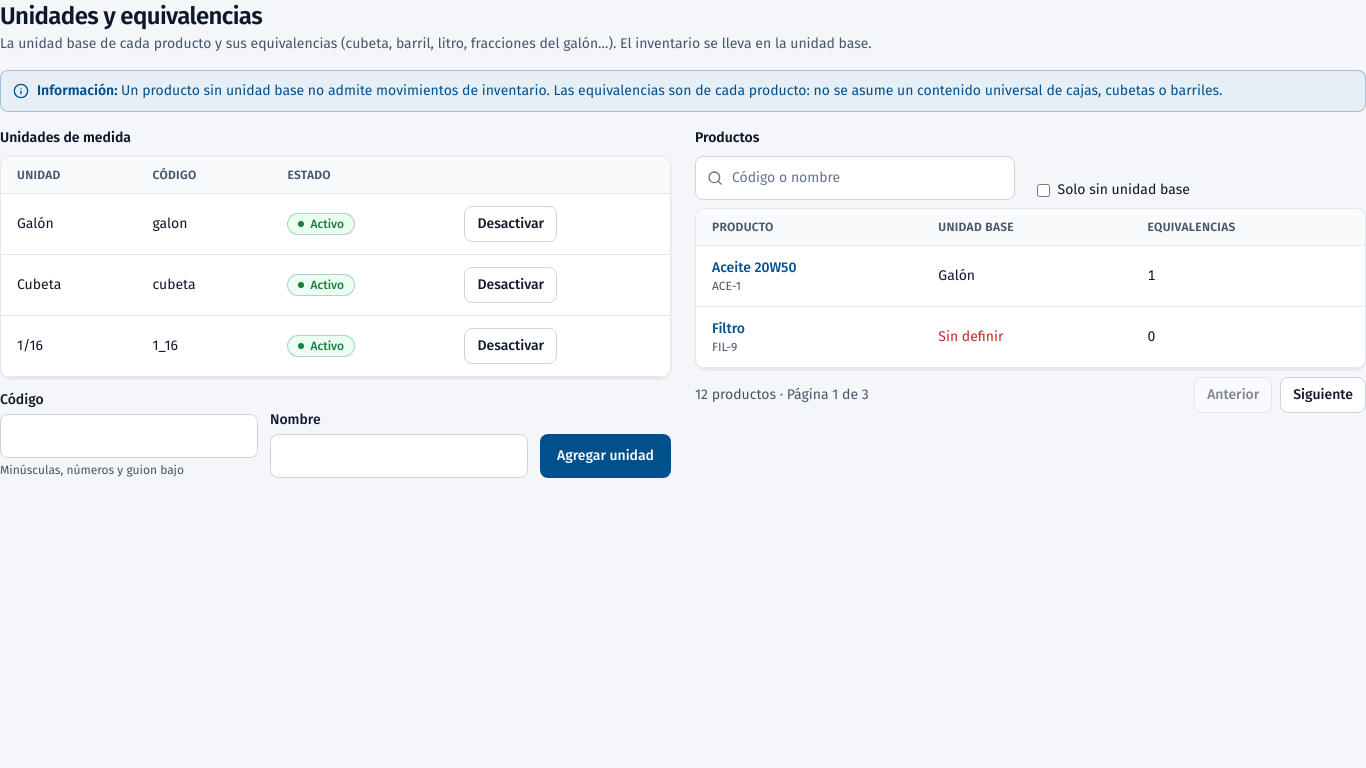
Scenario: unidades y equivalencias › edita la unidad base y las equivalencias de un producto
Click the button "Aceite 20W50": [754, 268] box [712,258,796,278]
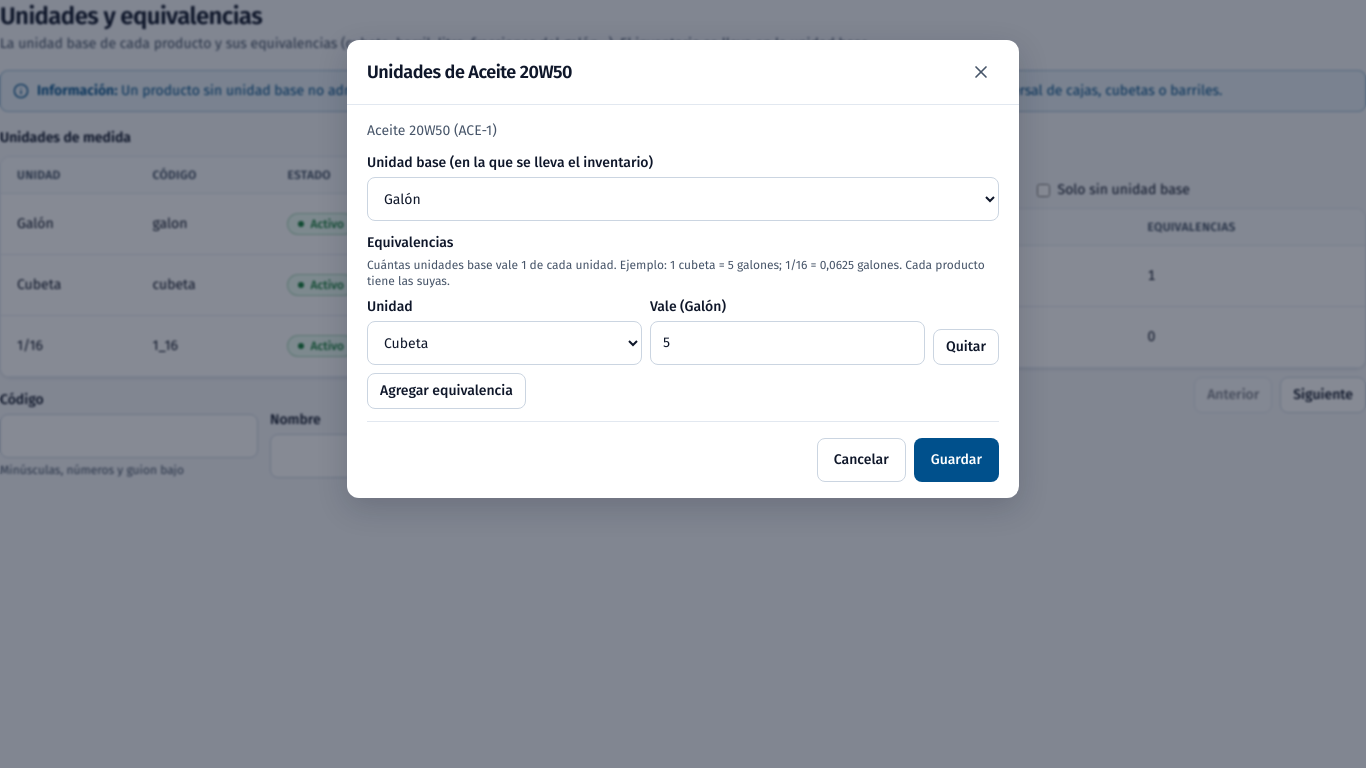
Result: the field labelled "Vale (Galón)" holds "5"
Replace the text in the field labelled "Vale (Galón)" with "5.5": [788, 343] box [650,321,925,365]
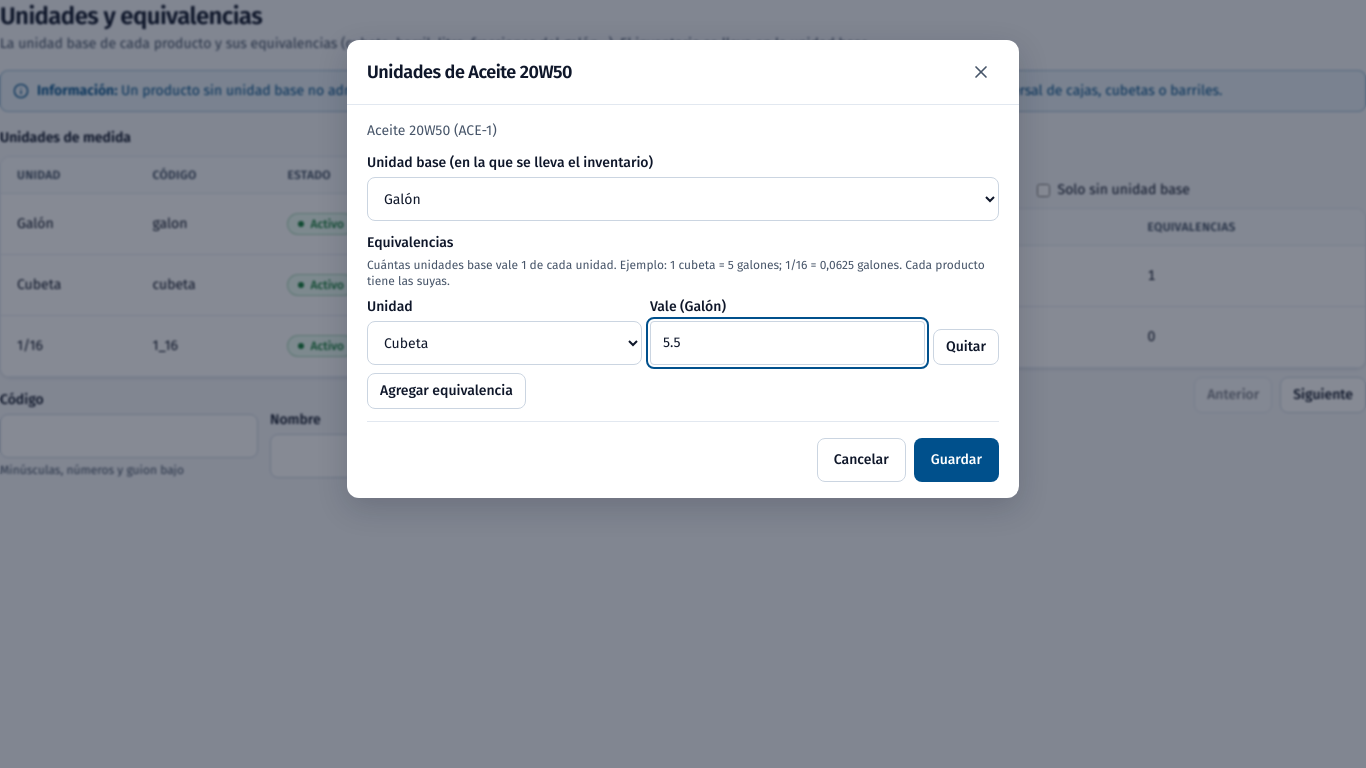
Click the button "Agregar equivalencia": [446, 391] box [367,373,526,409]
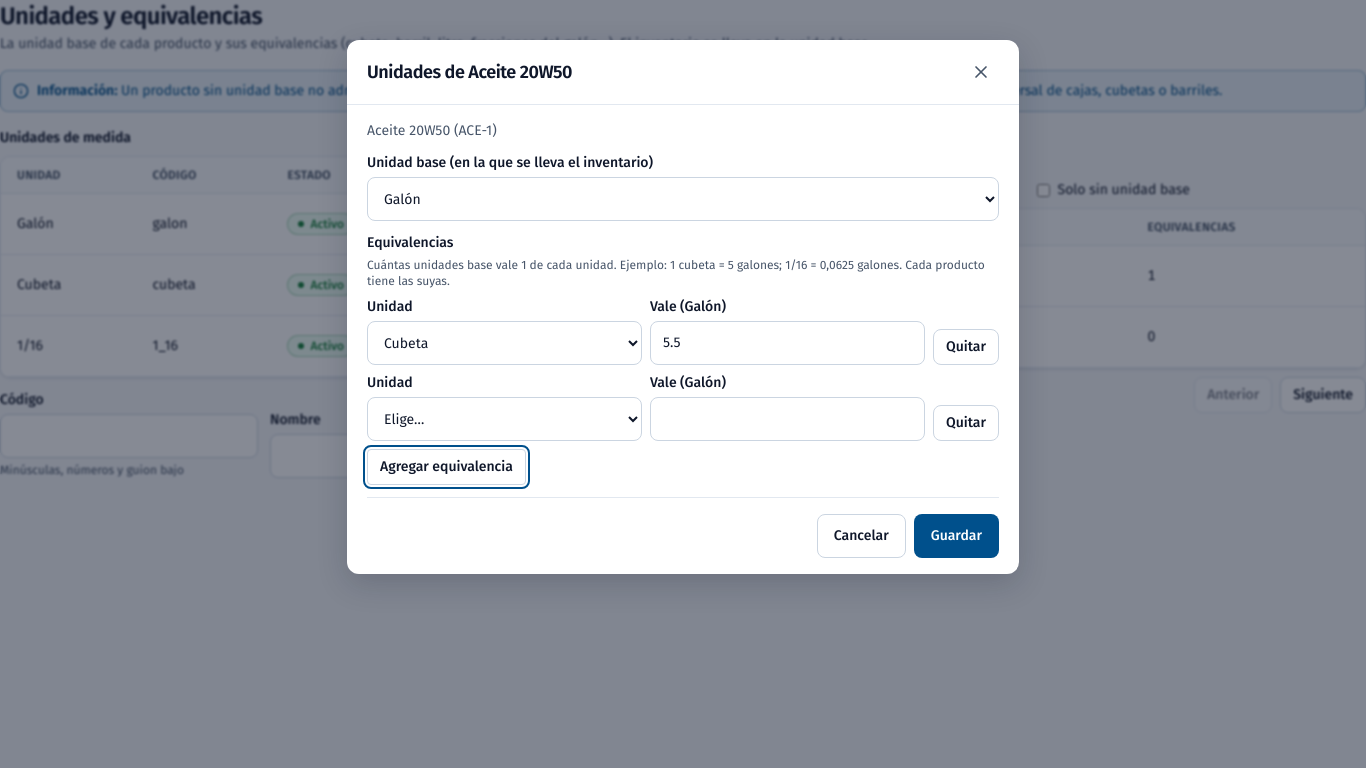
Select "1/16" in the 2nd dropdown labelled "Unidad": [504, 419] box [367,397,642,441]
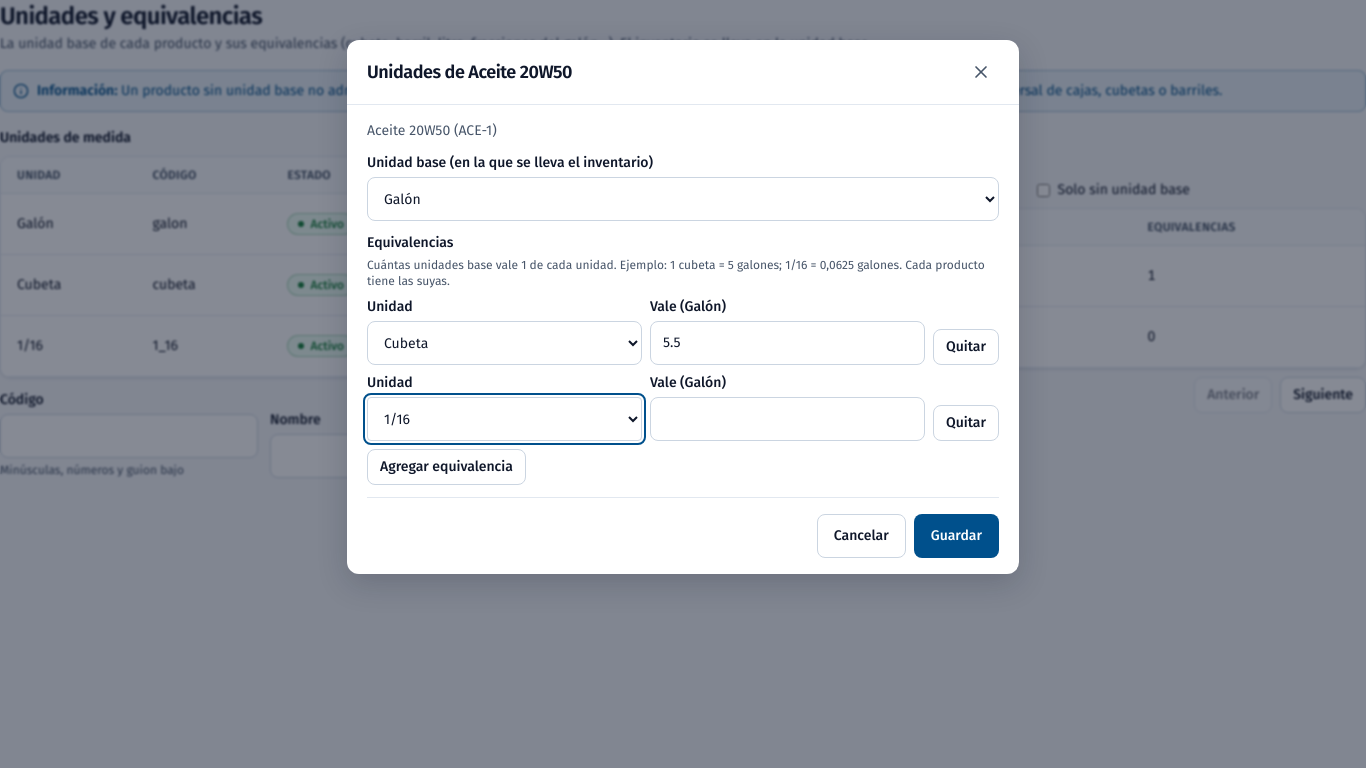
In the 2nd field labelled "Vale (Galón)": [788, 419] box [650,397,925,441], type "0.0625"
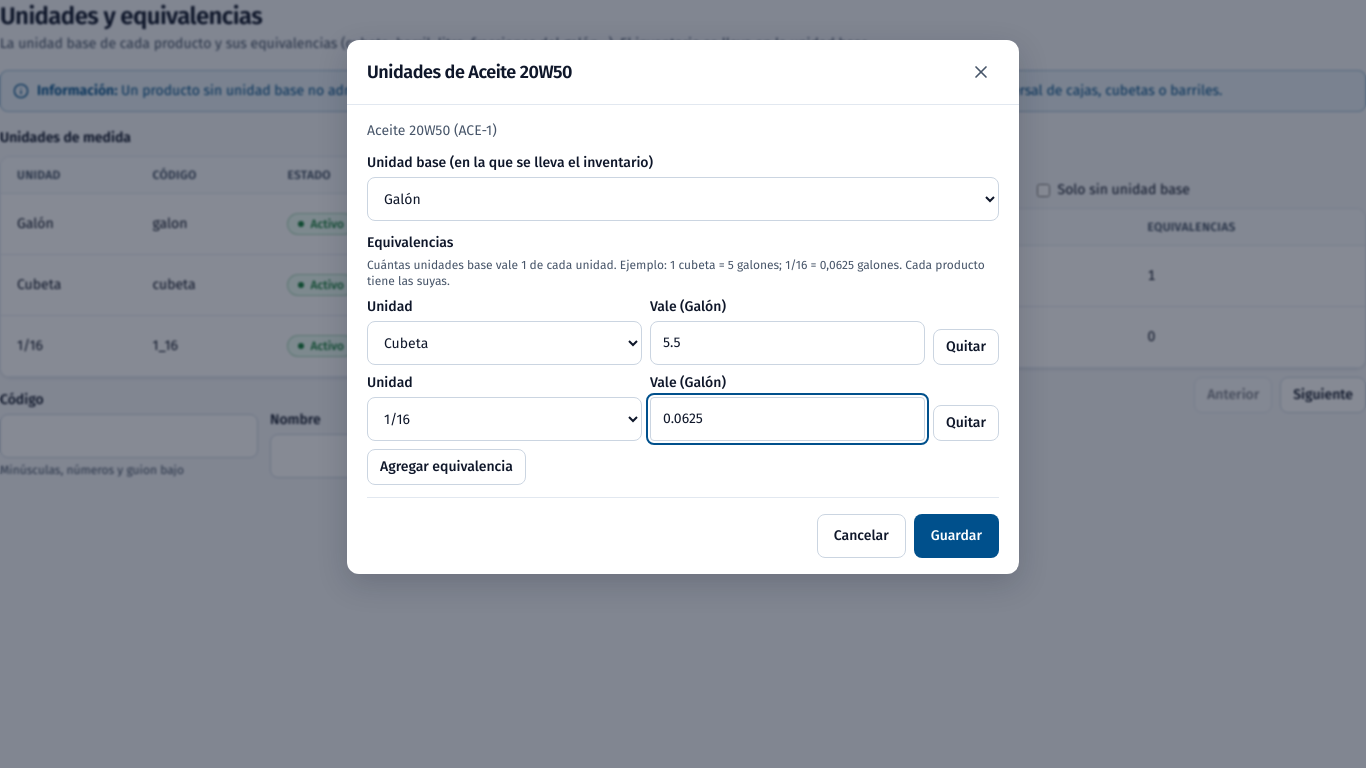
Click the button "Guardar": [956, 536] box [914,514,999,558]
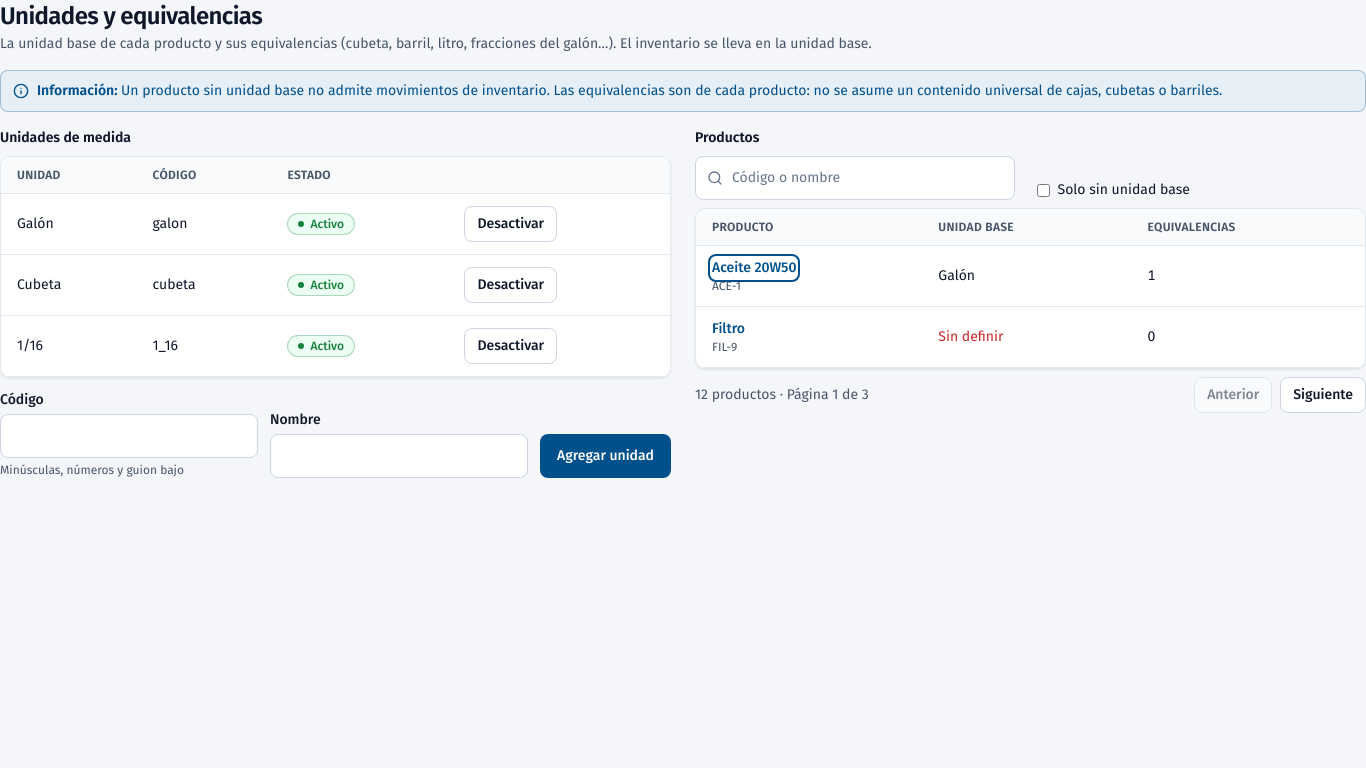
Result: the dialog is gone
